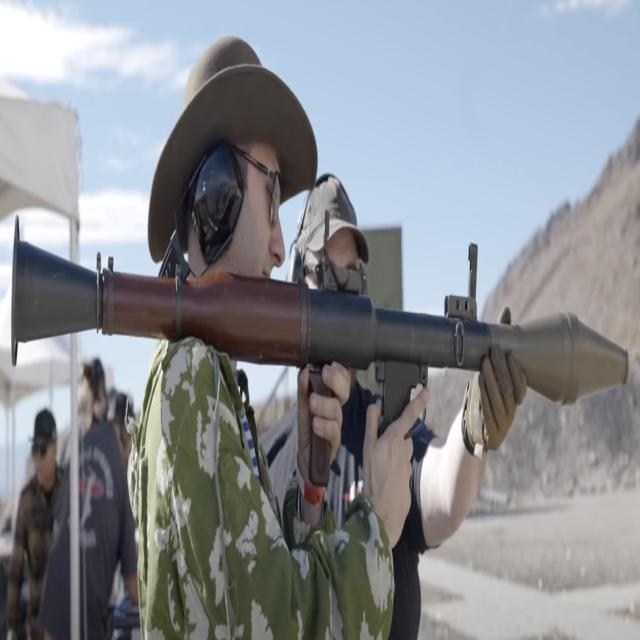bazooka: (6, 178, 634, 473)
